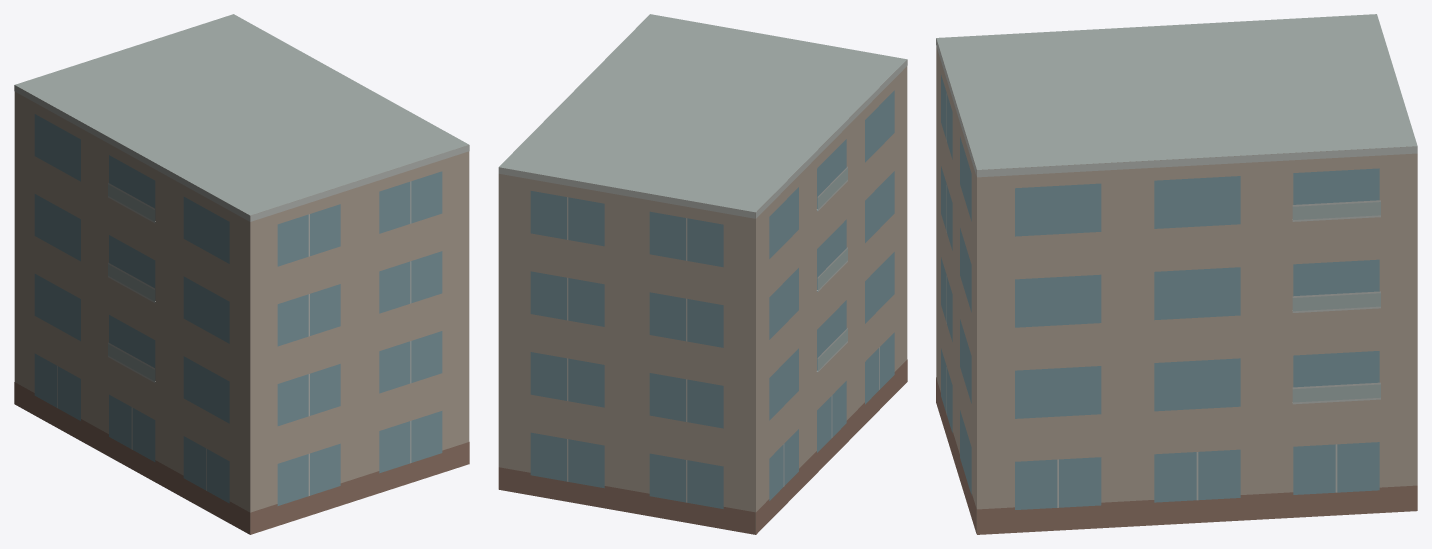
File: survey-upis-32798072.glb
3 renders of one model, left to right at view 1: azimuth 30°, elevation 25°; view 2: azimuth 150°, elevation 25°; view 3: azimuth 270°, elevation 25°, orthographic. The views are drawn at different scales.
Visible parts, largest first — view 1: survey-upis-32798072.tmp; view 2: survey-upis-32798072.tmp; view 3: survey-upis-32798072.tmp.
Part boxes in pixels (box(x1,y1,x2,y2)): survey-upis-32798072.tmp: box(14, 14, 469, 534); survey-upis-32798072.tmp: box(498, 14, 907, 534); survey-upis-32798072.tmp: box(936, 14, 1417, 534).
Size of the model in its own units: 11.11 by 12.1 by 14.48.
